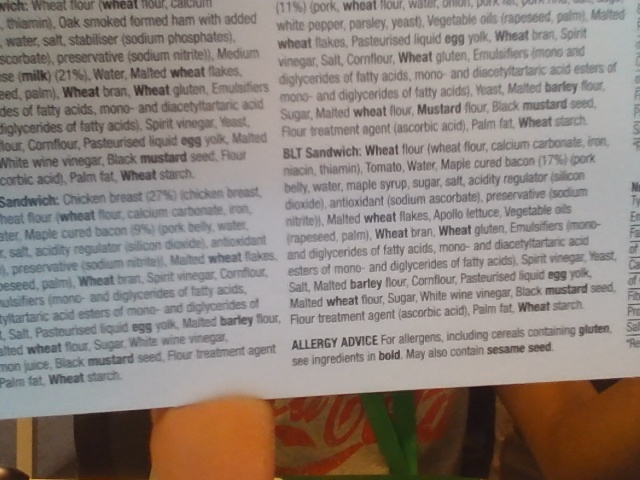egg: (129, 322, 156, 335), (546, 270, 569, 285)
wheat: (76, 271, 116, 289), (132, 83, 171, 99), (63, 84, 100, 99), (520, 115, 557, 130), (365, 143, 402, 157), (397, 52, 433, 64), (326, 297, 361, 307)
